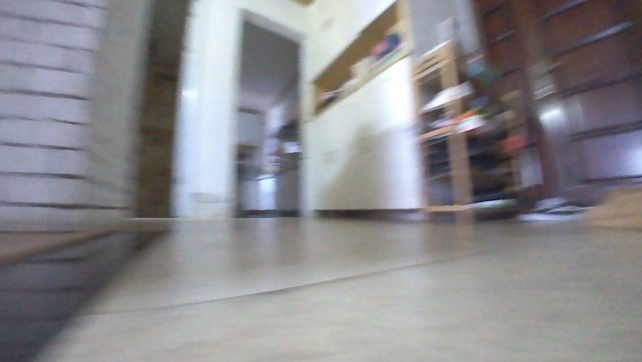door_anno: (469, 0, 641, 218)
